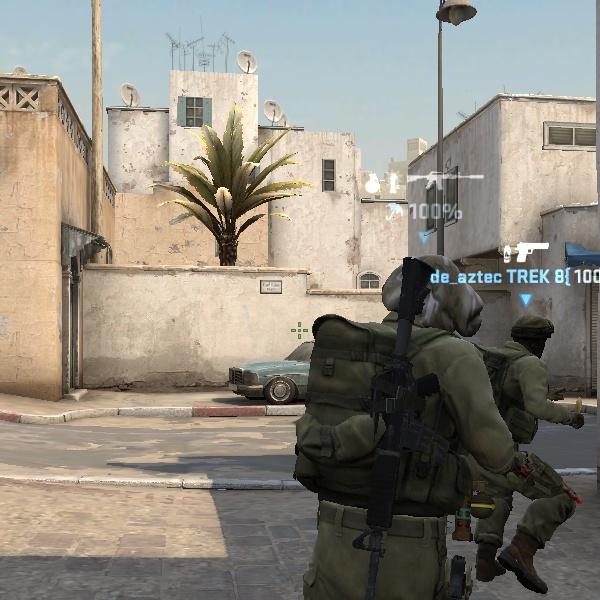ct_head: (500, 308, 557, 366)
